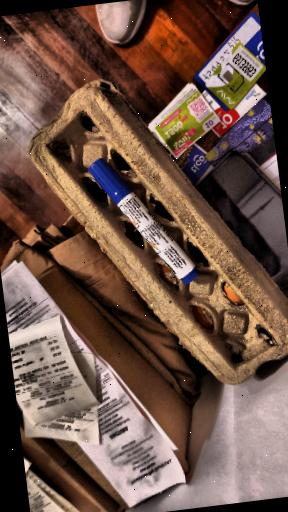marcador azul: (89, 158, 199, 283)
